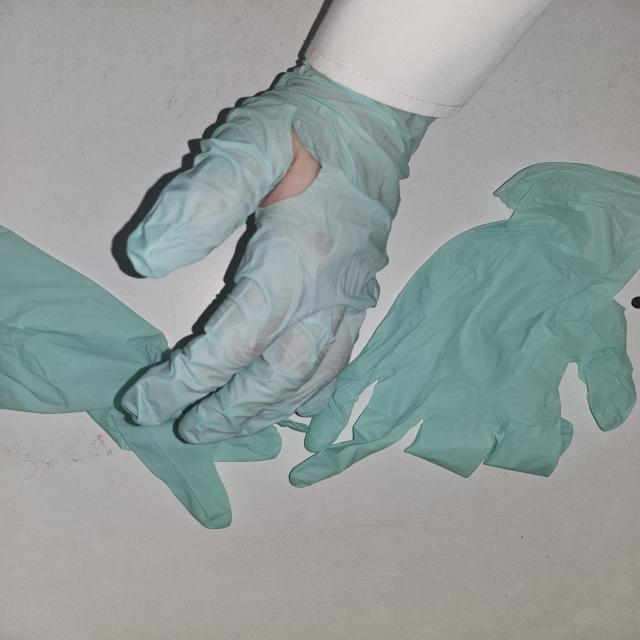gloves_damaged: (115, 67, 434, 447)
